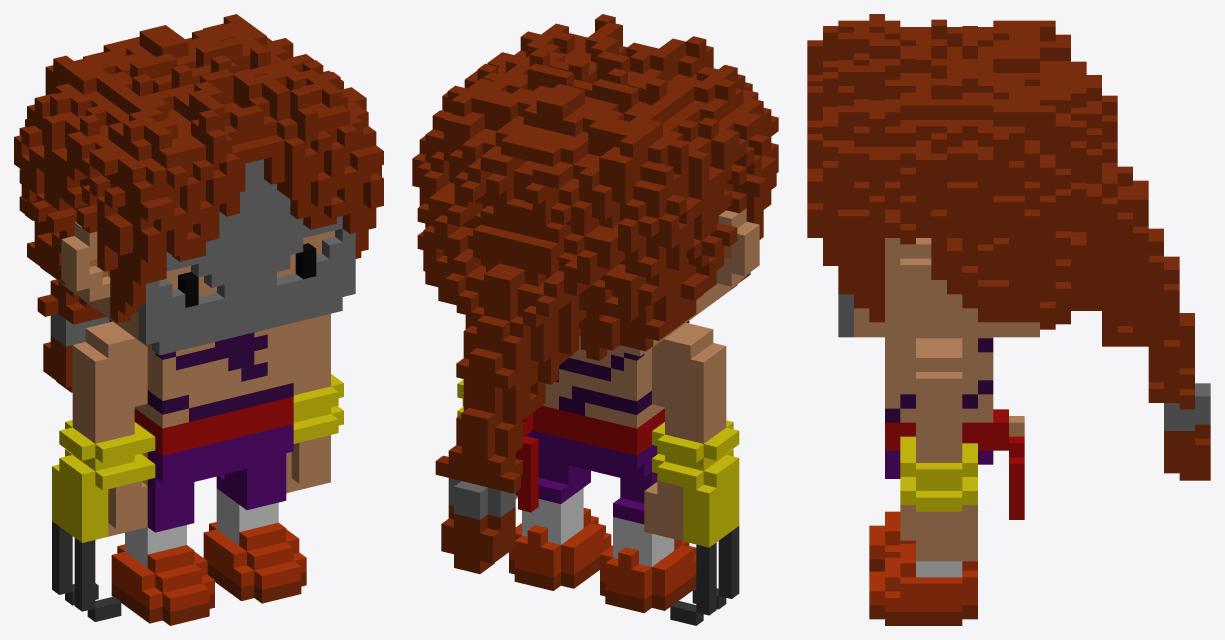
File: asset.glb
The picture shows the model from 3 angles, left to right: view 1: azimuth 30°, elevation 25°; view 2: azimuth 150°, elevation 25°; view 3: azimuth 270°, elevation 25°; orthographic projection. The views are drawn at different scales.
Parts seen in each view (by area): view 1: Cube.2631; view 2: Cube.2631; view 3: Cube.2631.
Boxes of the visible parts, x1,y1,x2,y2 form: Cube.2631: (14,14,383,625); Cube.2631: (412,14,778,625); Cube.2631: (807,14,1210,625).
Size of the model in its own units: 22 by 38 by 26.
